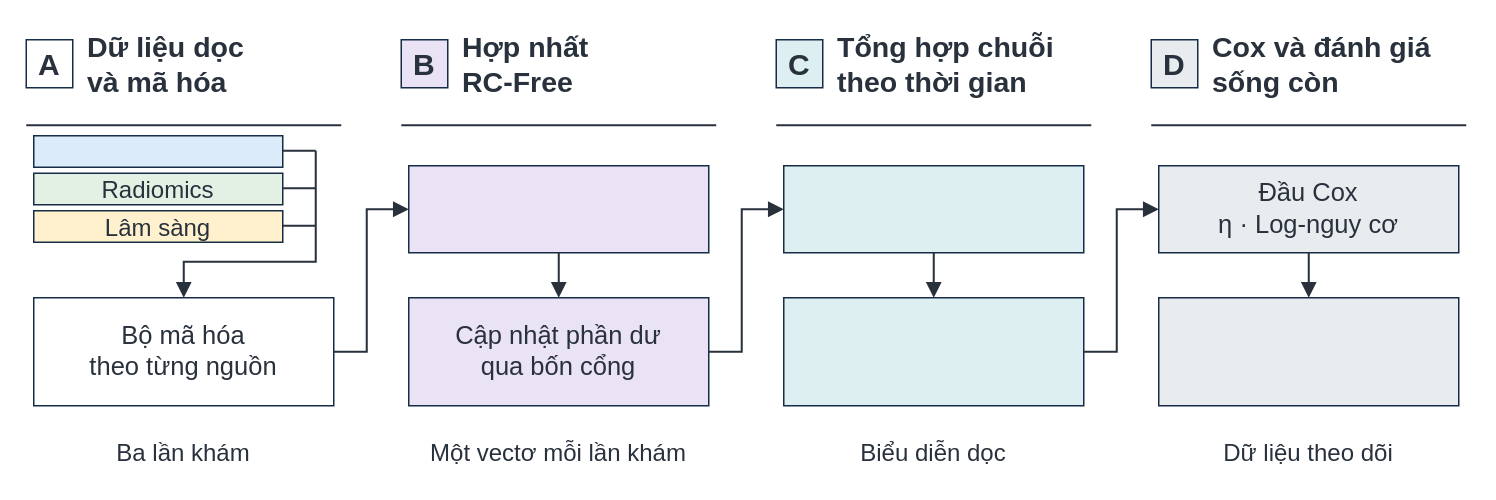
The diagram is 1496 pixels wide and 500 high, and some of its shapes have lost their labels. The shapes that lost their labels are listed below. From the top down, each one's centre as x and y in pixels, then its label:
At [157,150]: "MRI".
At [558,208]: "CP theo cặp MR và MC".
At [933,208]: "T-LSTM + khoảng cách MRI".
At [933,351]: "Additive attention".
At [1308,351]: "C-index · Kaplan–Meier IPCW AUC · 2 / 3 / 5 năm".
